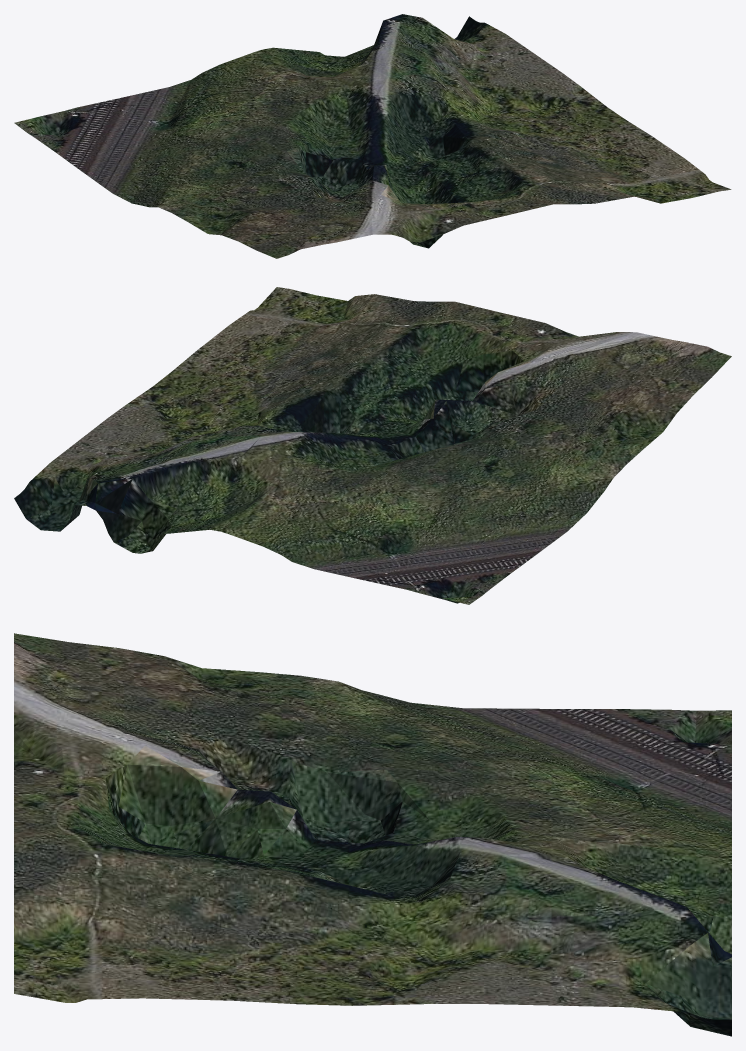
Rendered from map_15_8176_13780.dae.
3 renders of one model, top to bottom at view 1: azimuth 30°, elevation 25°; view 2: azimuth 150°, elevation 25°; view 3: azimuth 270°, elevation 25°, orthographic. The views are drawn at different scales.
Parts seen in each view (by area): view 1: Ter0; view 2: Ter0; view 3: Ter0.
Boxes of the visible parts, box(x1,y1,x2,y2) form: Ter0: box(14, 14, 731, 258); Ter0: box(14, 287, 731, 604); Ter0: box(14, 633, 731, 1036).
Bounding box in the file's own units: 63.88 × 63.88 × 12.08.
Materials: 2 (2 with a texture image).
